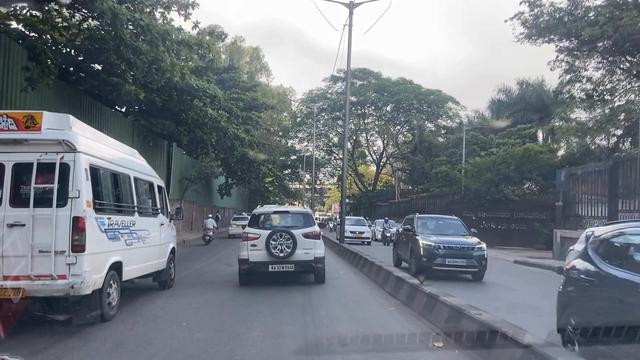HMV: (0, 113, 184, 307)
LMV: (239, 203, 324, 286)
